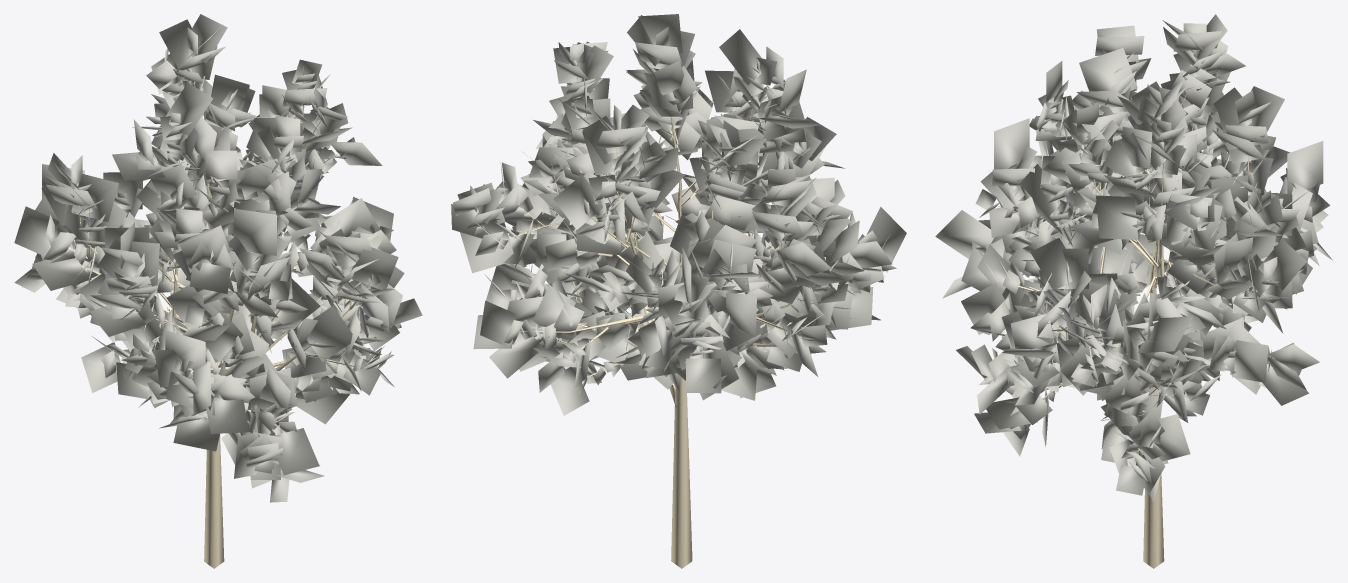
The model's file is oak_medium_v1_lod2.glb.
3 views of the same model, side by side, from view 1: azimuth 30°, elevation 25°; view 2: azimuth 150°, elevation 25°; view 3: azimuth 270°, elevation 25° (orthographic). The views are drawn at different scales.
Parts seen in each view (by area): view 1: Leaves, Branches; view 2: Leaves, Branches; view 3: Leaves, Branches.
Part boxes in pixels (box(x1,y1,x2,y2)): Leaves: box(14, 14, 422, 502); Branches: box(68, 56, 377, 568); Leaves: box(451, 14, 906, 415); Branches: box(479, 64, 813, 568); Leaves: box(935, 14, 1332, 502); Branches: box(992, 50, 1268, 568).
Size of the model in its own units: 50.45 by 69.81 by 46.36.
